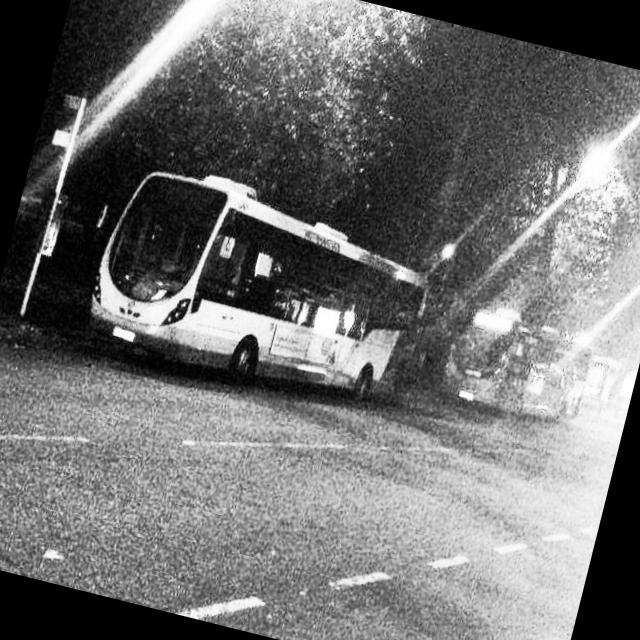Bus: (60, 140, 458, 450), (423, 289, 610, 443)
